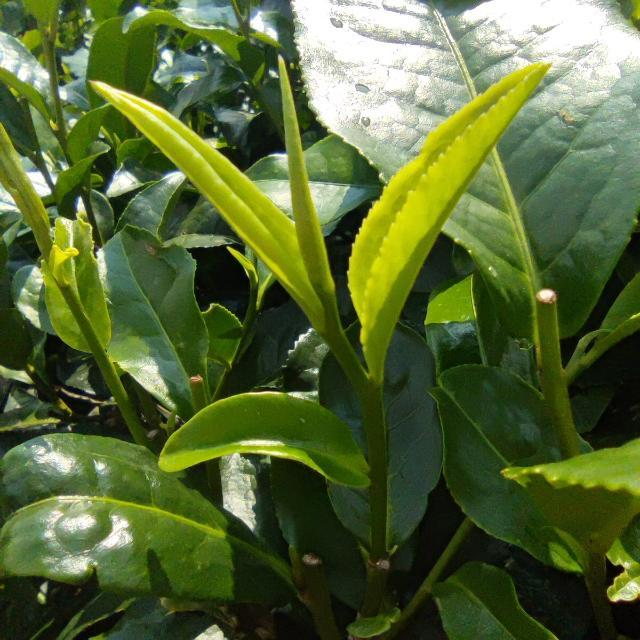Stem: (320, 323, 352, 358)
